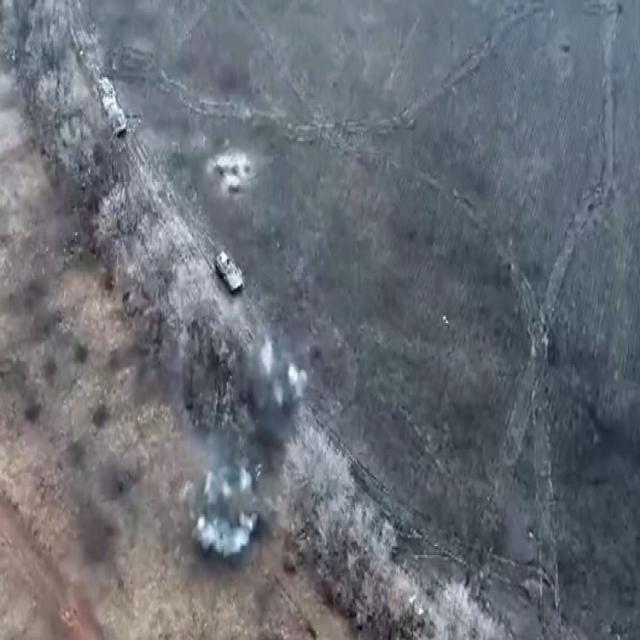apc: (213, 250, 244, 293)
cars: (100, 71, 116, 108), (111, 106, 125, 137)
